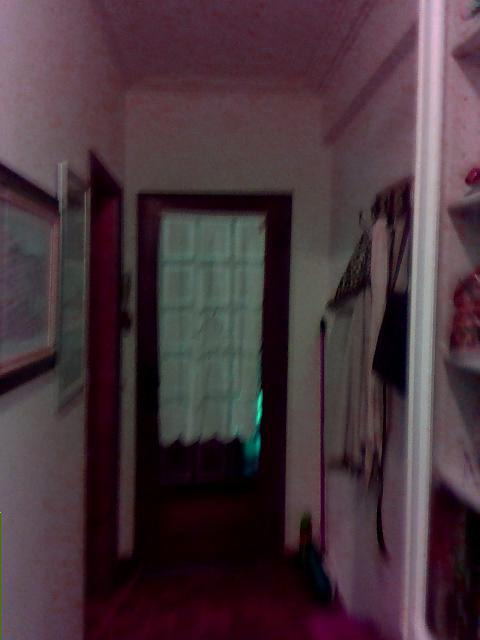closed_door: (135, 189, 292, 568)
